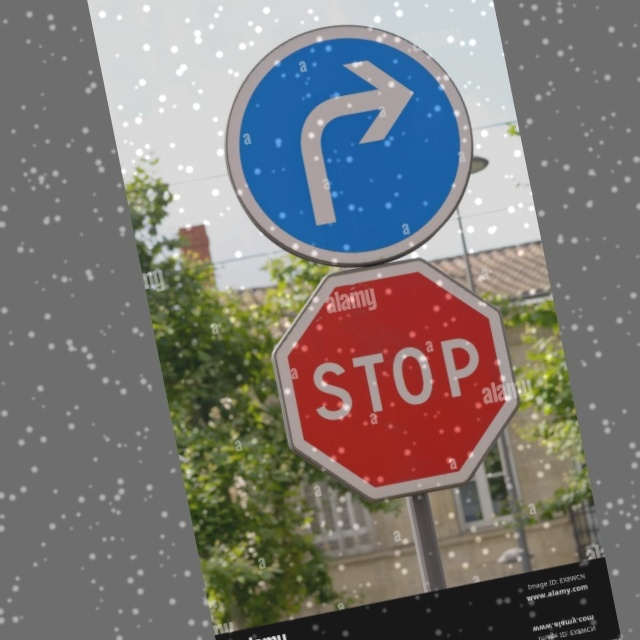Compulsory_Turn_Right_Ahead: (205, 5, 497, 284)
